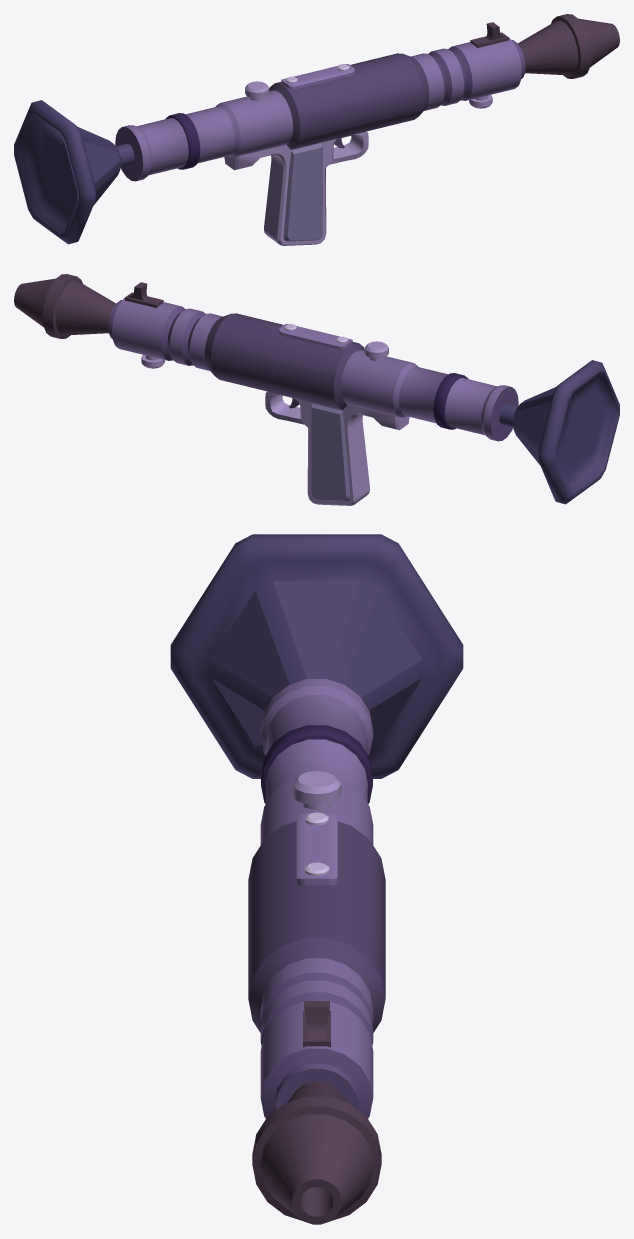
Rendered from Weapon15.fbx.
The picture shows the model from 3 angles, top to bottom: view 1: azimuth 30°, elevation 25°; view 2: azimuth 150°, elevation 25°; view 3: azimuth 270°, elevation 25°; orthographic projection. The views are drawn at different scales.
Visible parts, largest first — view 1: Weapon15; view 2: Weapon15; view 3: Weapon15.
Part boxes in pixels (box(x1,y1,x2,y2)): Weapon15: box(14, 14, 619, 245); Weapon15: box(14, 274, 619, 505); Weapon15: box(170, 534, 463, 1224).
Bounding box in the file's own units: 159 × 50.64 × 35.47.
